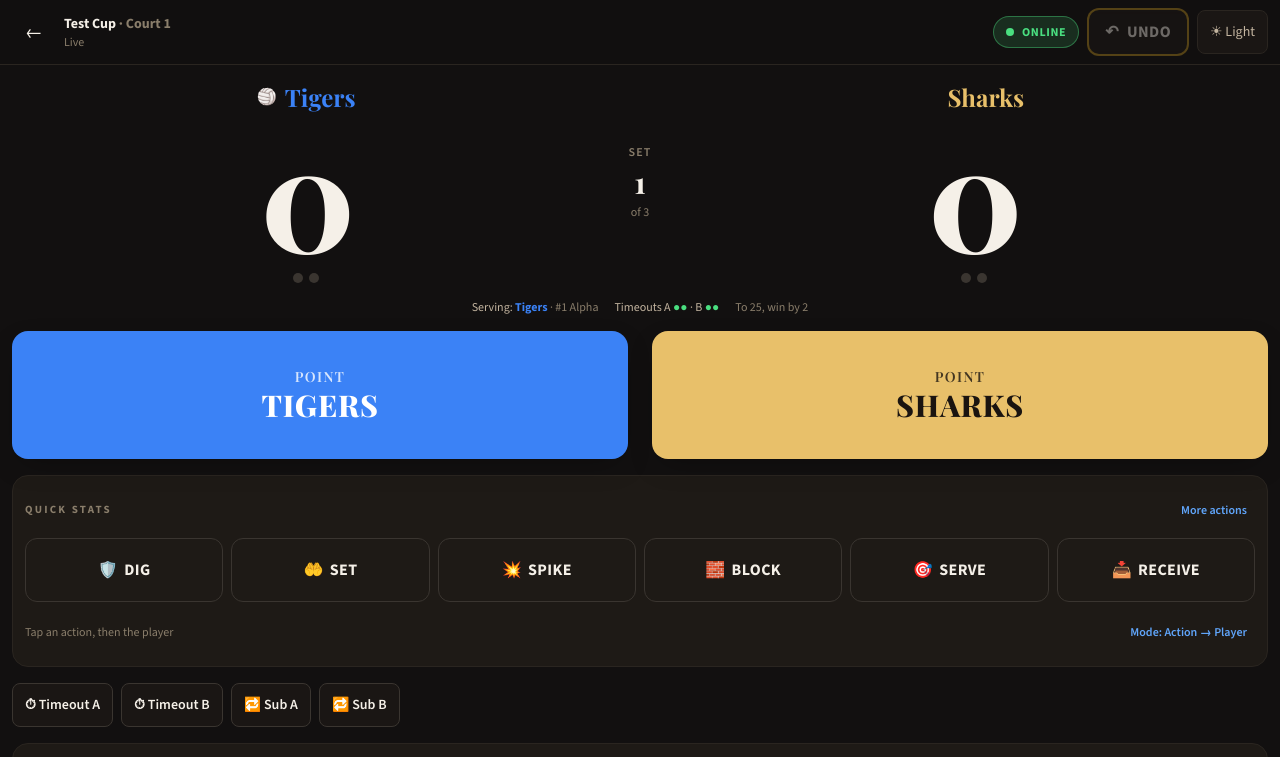
Test: LiveScoring — scorer usability › Test 4: corrects the previous rally in one tap (undo) and can undo a specific earlier rally from the timeline
The width and height of the screenshot is (1280, 757).
Step 1. Click the button with test id "point-A" → (320, 395), box [12,331,628,459]
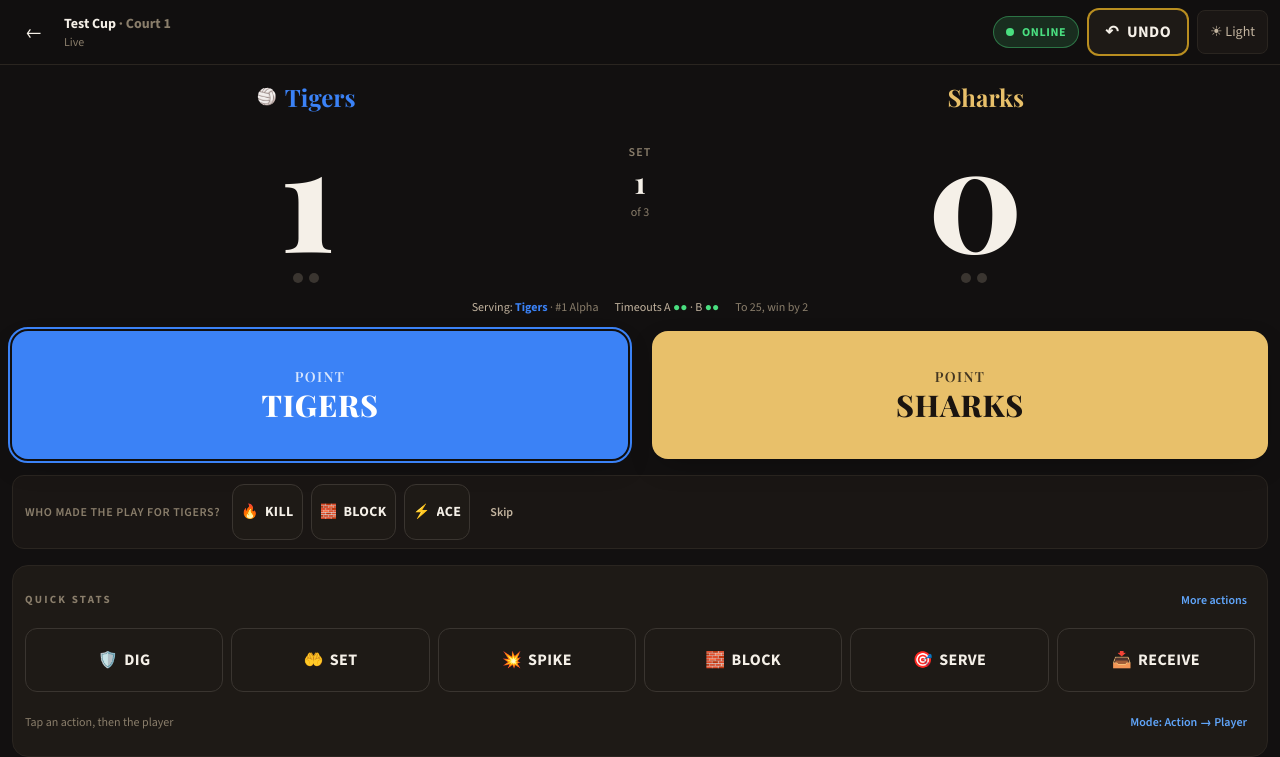
Step 2. Click the button with test id "point-B" → (960, 395), box [652,331,1268,459]
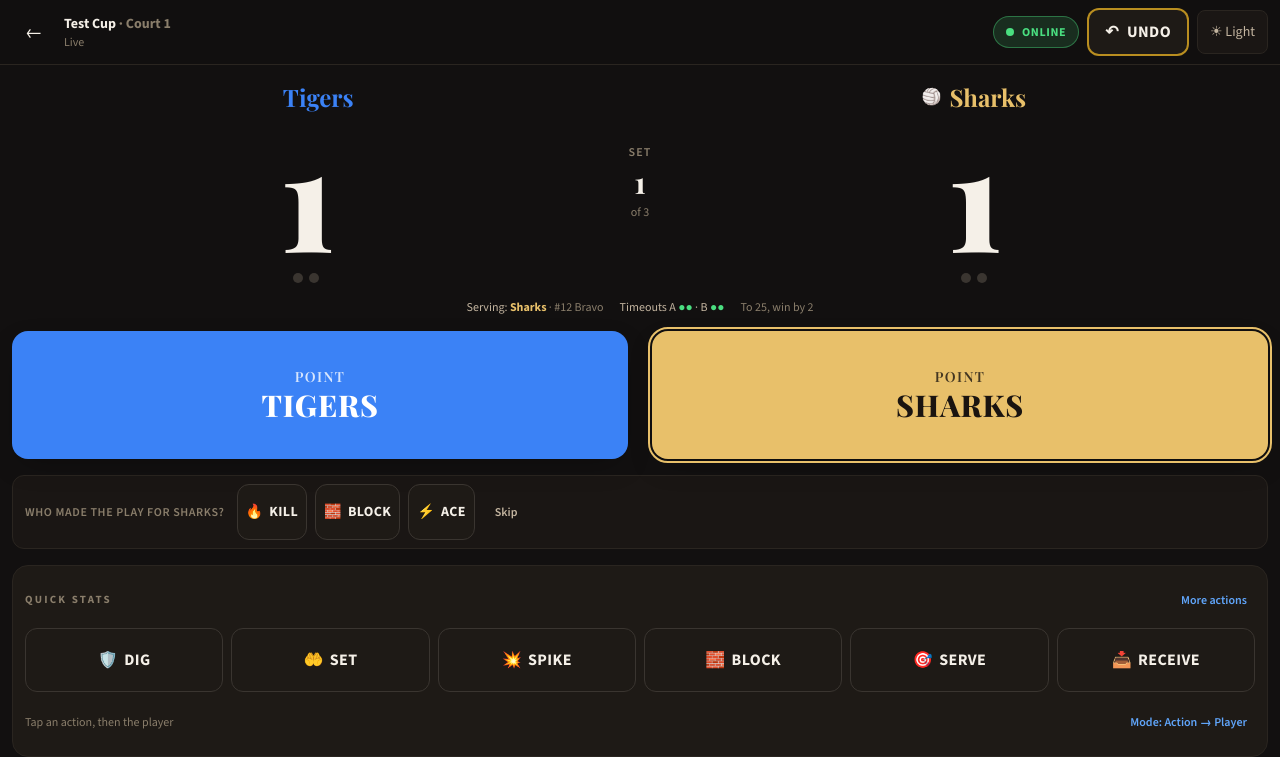
Result: the text with test id "score-B" reads "1" at [947,97,1000,289]
Step 3. Click the button with test id "undo" → (1138, 32), box [1087,8,1189,56]
(page scrolled)
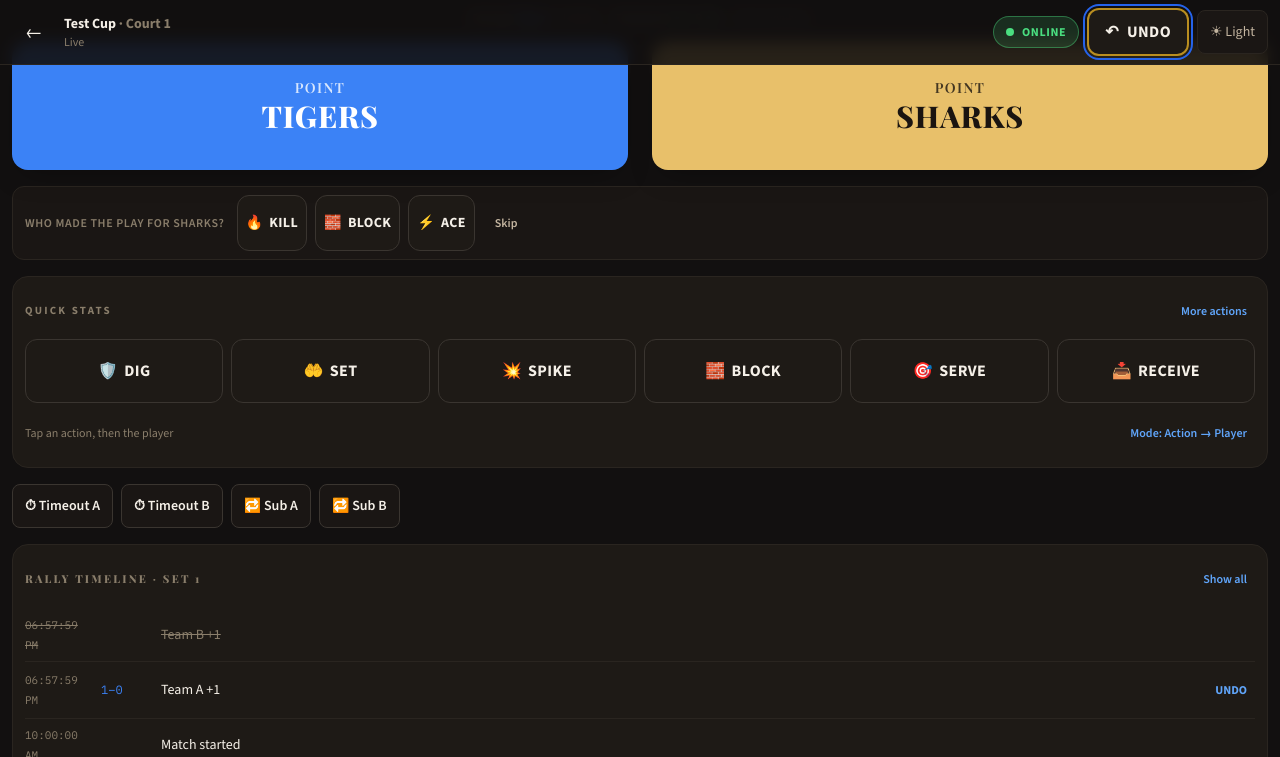
undo a specific row from the timeline (≤ 3 taps: open row → undo)
Step 4. Click the button with aria-label "Undo: Team A +1" → (1231, 690), box [1207,668,1255,712]
(page scrolled)
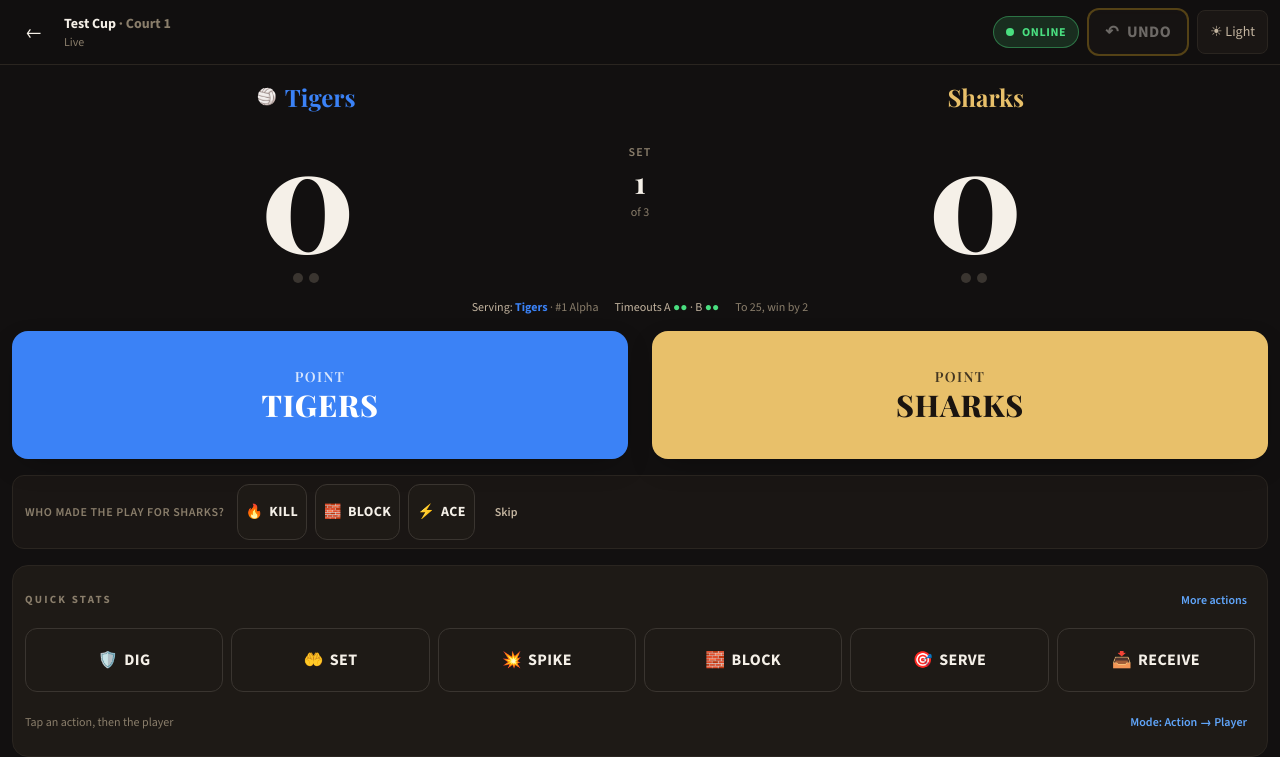
Result: the text with test id "score-A" reads "0" at [260,97,352,289]
